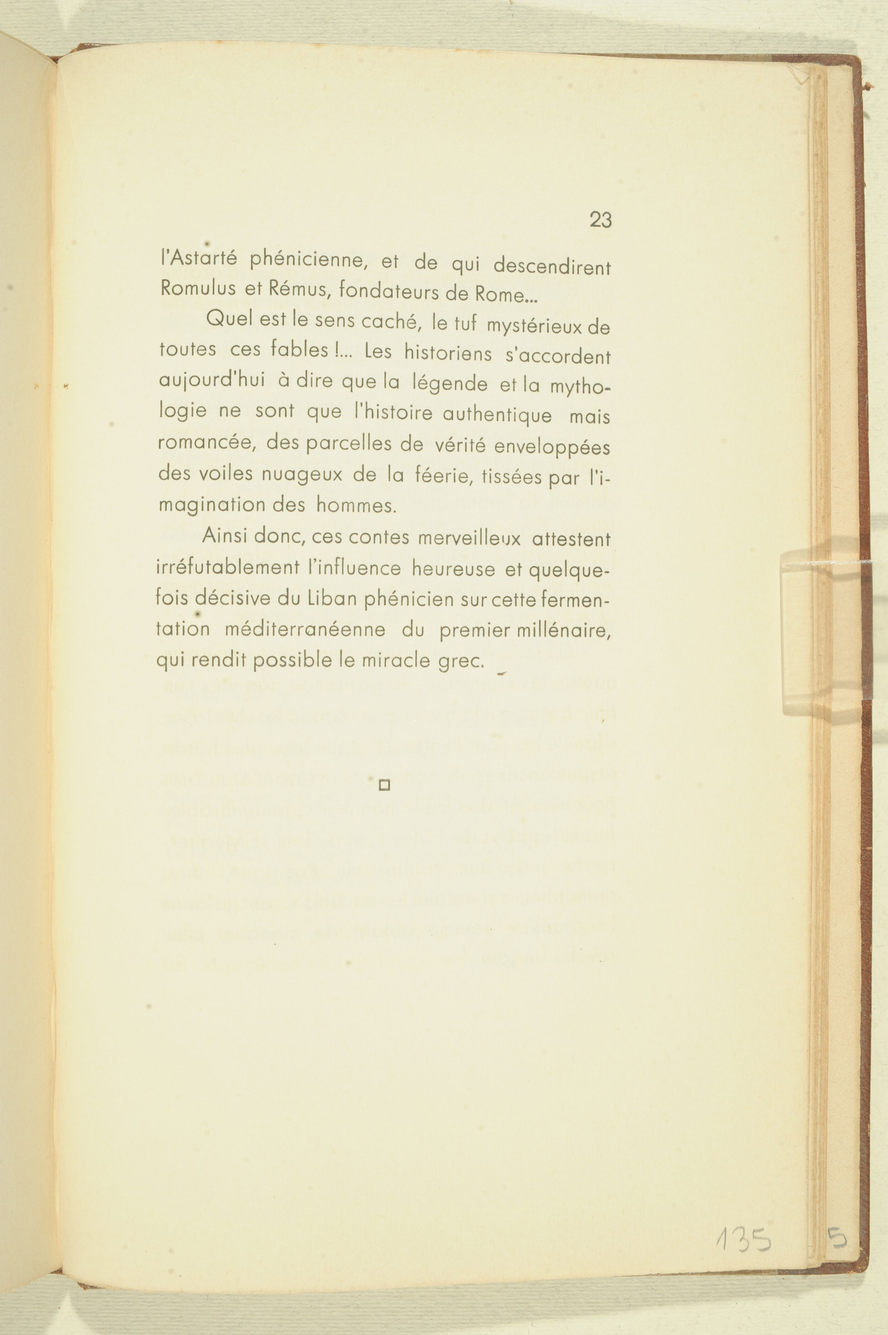InterligneAsterisque: (352, 758, 427, 820)
LigneDeProse: (132, 239, 619, 715)
N°Page: (568, 197, 644, 238)
